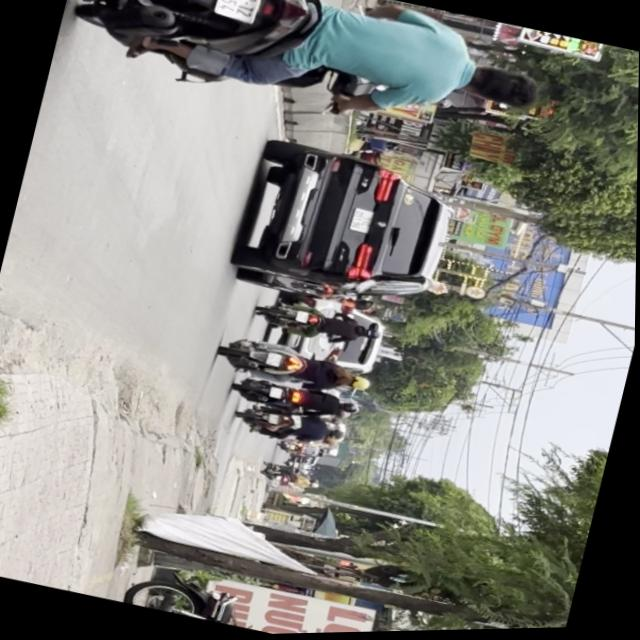licenseplate: (51, 0, 554, 165)
motorcyclist: (457, 58, 543, 115)
nohelmet: (214, 0, 263, 24)
